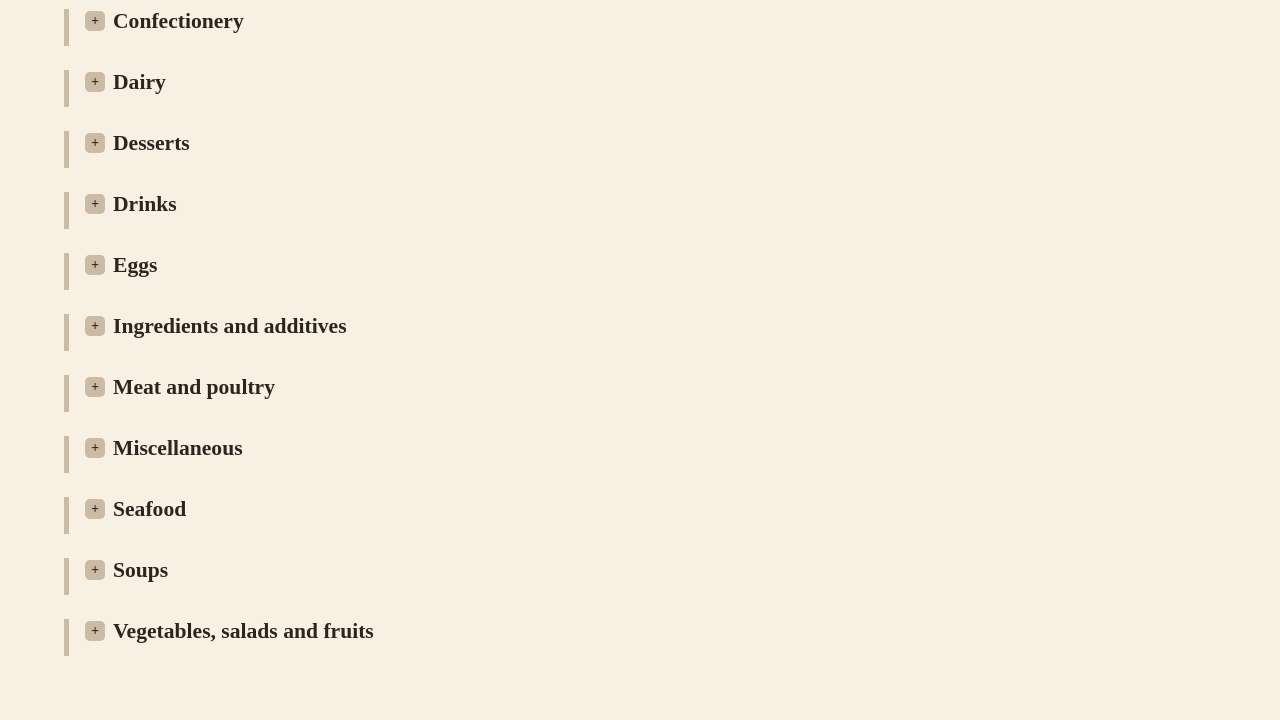
Test case: CataloguePage collapsed-row chips › summarises a collapsed preparation band
The image size is (1280, 720).
(page scrolled)
Click the button "+ Meat and poultry".
click(180, 387)  # box [85,375,275,400]
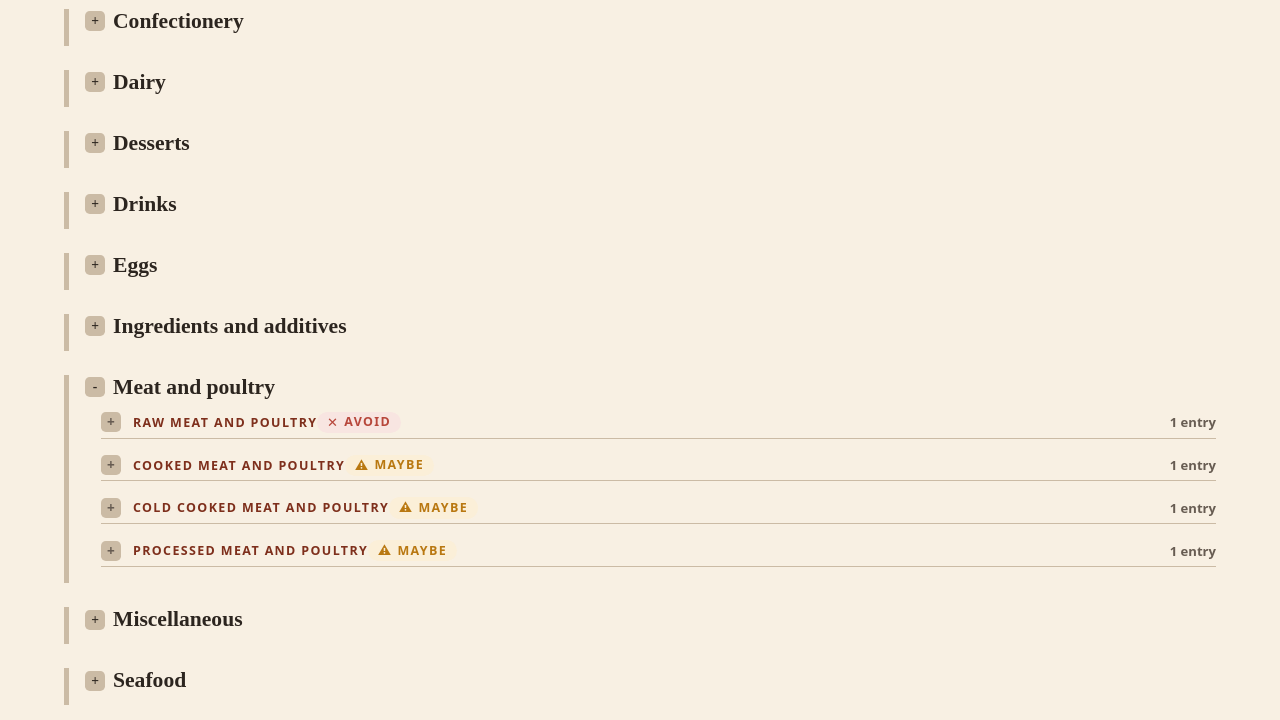
Now the element with class "aggregate-chip" shows "Avoid", box [344,413,391,430]
